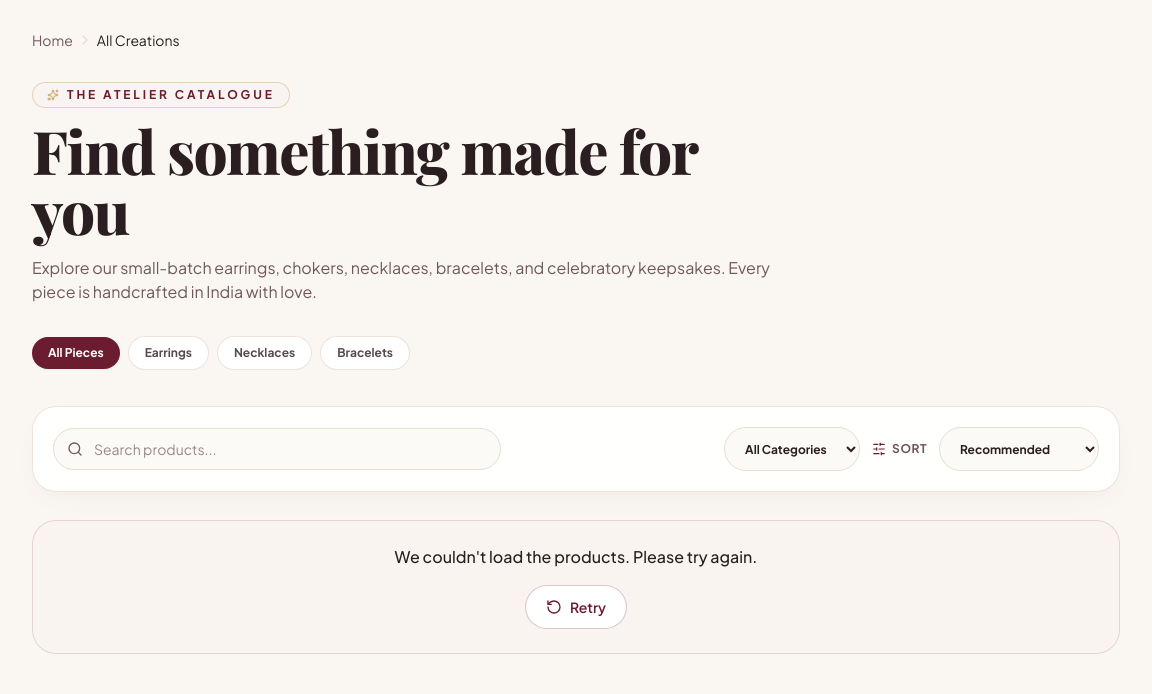
it: ProductsPage › shows error state with retry button on API failure
Expected: the text "We couldn't load the products. Please try again." is shown, x1=395 y1=546 x2=757 y2=567
Click the button "Retry" at point(576, 607), box x1=525 y1=585 x2=627 y2=629
(page scrolled)
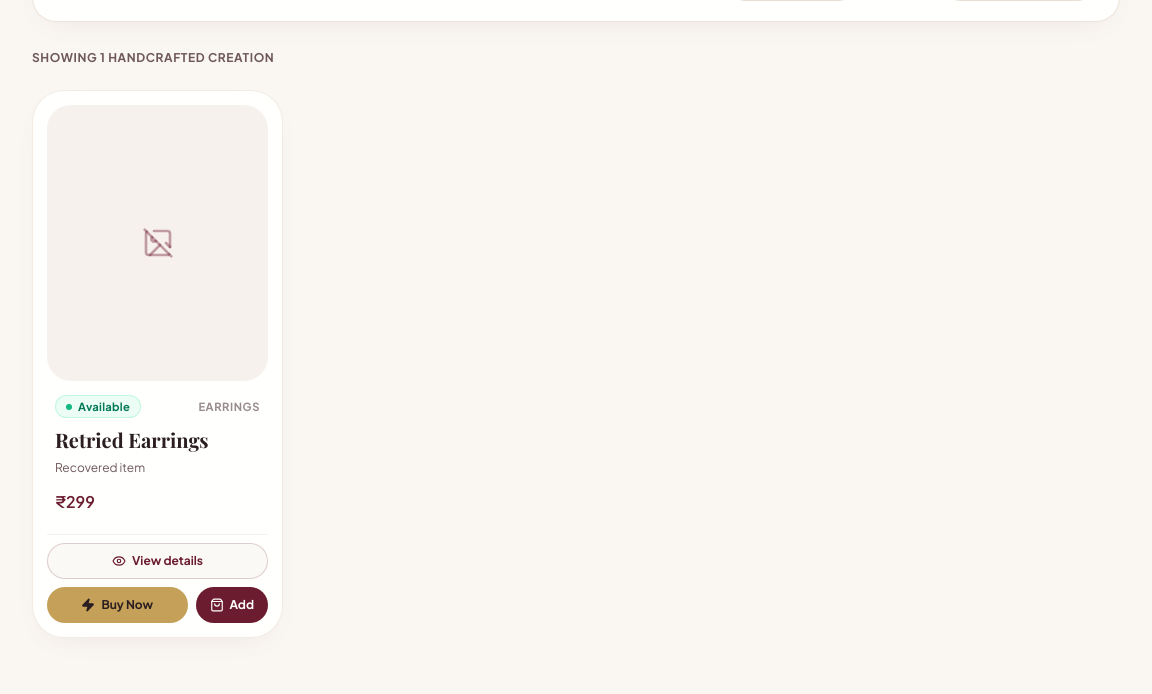
Expected: the heading "Retried Earrings" is shown, x1=55 y1=426 x2=209 y2=453
